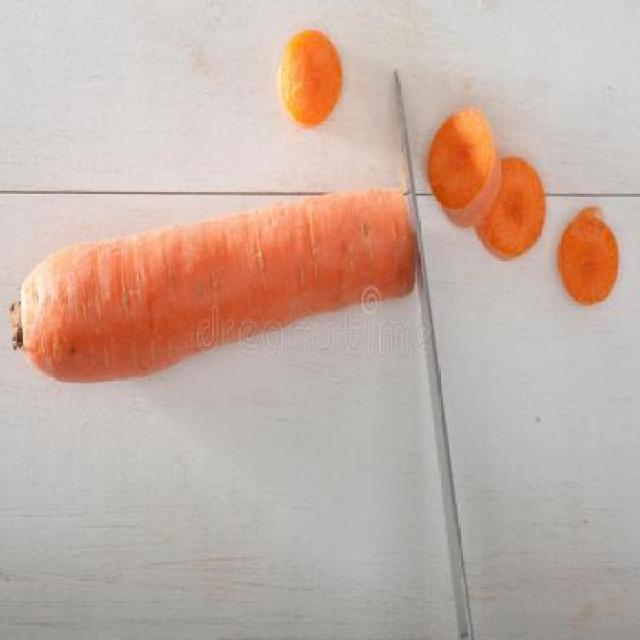carrot: (9, 184, 425, 389)
